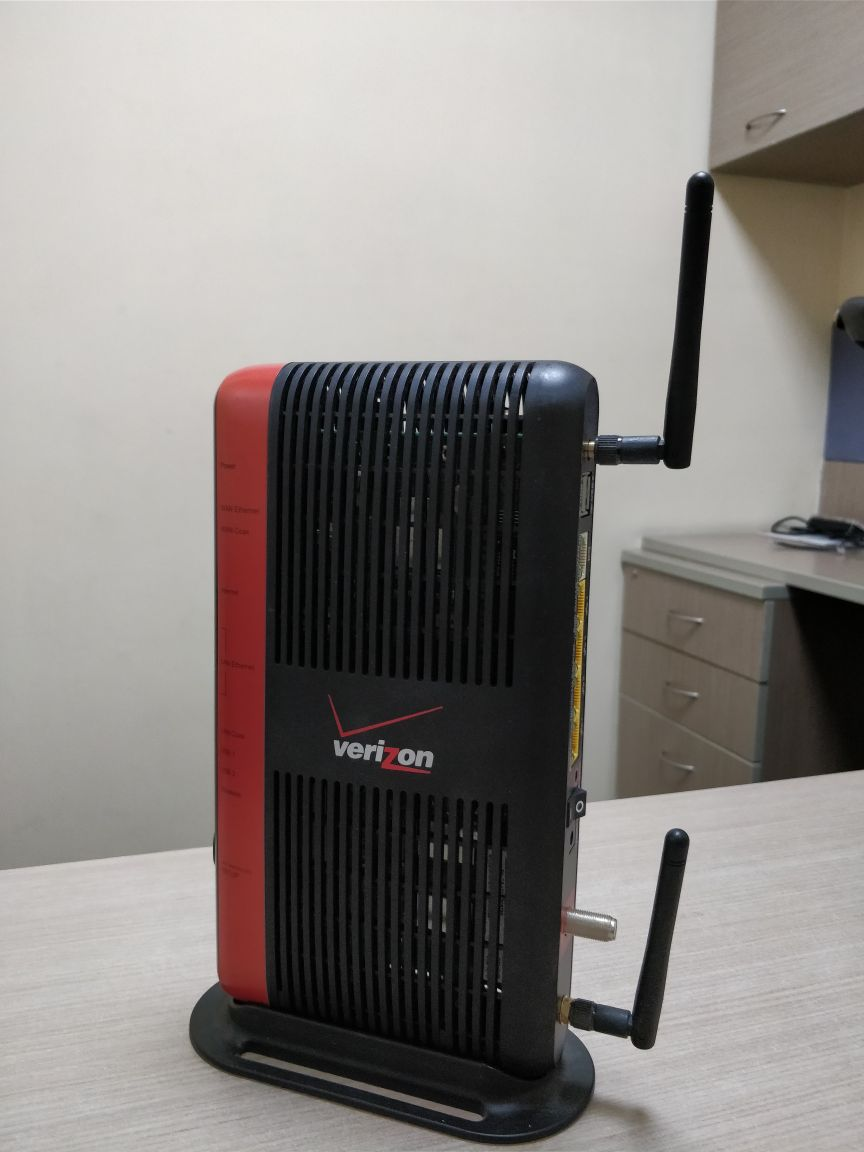Verizon Router: (142, 213, 767, 1152)
